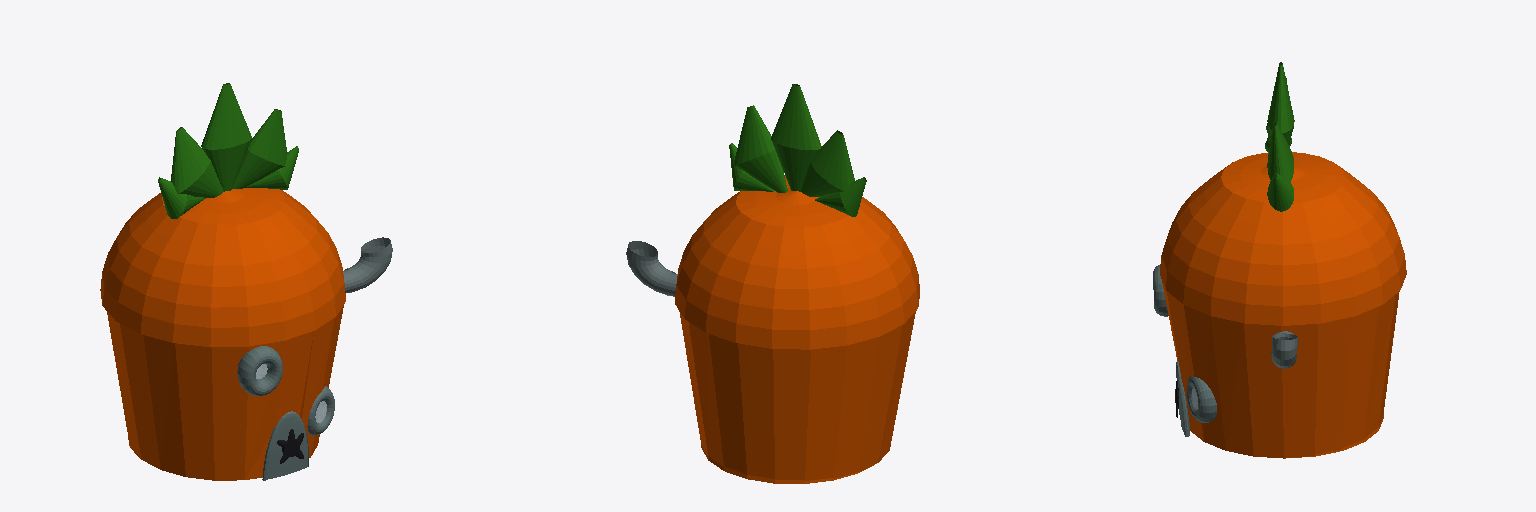
The picture shows the model from 3 angles: view 1: azimuth 30°, elevation 25°; view 2: azimuth 150°, elevation 25°; view 3: azimuth 270°, elevation 25°; orthographic projection.
Parts seen in each view (by area): view 1: pSphere9; view 2: pSphere9; view 3: pSphere9.
Boxes of the visible parts, box(x1,y1,x2,y2) form: pSphere9: box(100, 83, 392, 480); pSphere9: box(626, 84, 919, 483); pSphere9: box(1153, 62, 1406, 458).
Size of the model in its own units: 3 by 3.71 by 2.39.
Materials: 8 (1 with a texture image).